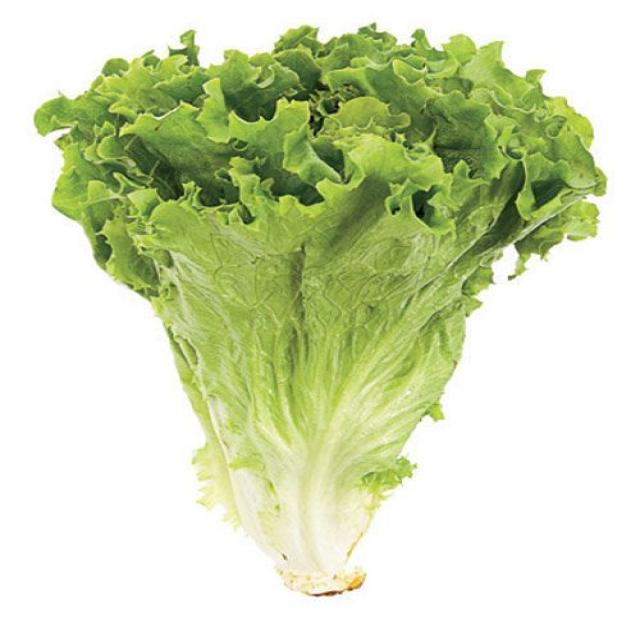lettuce: (36, 27, 604, 593)
